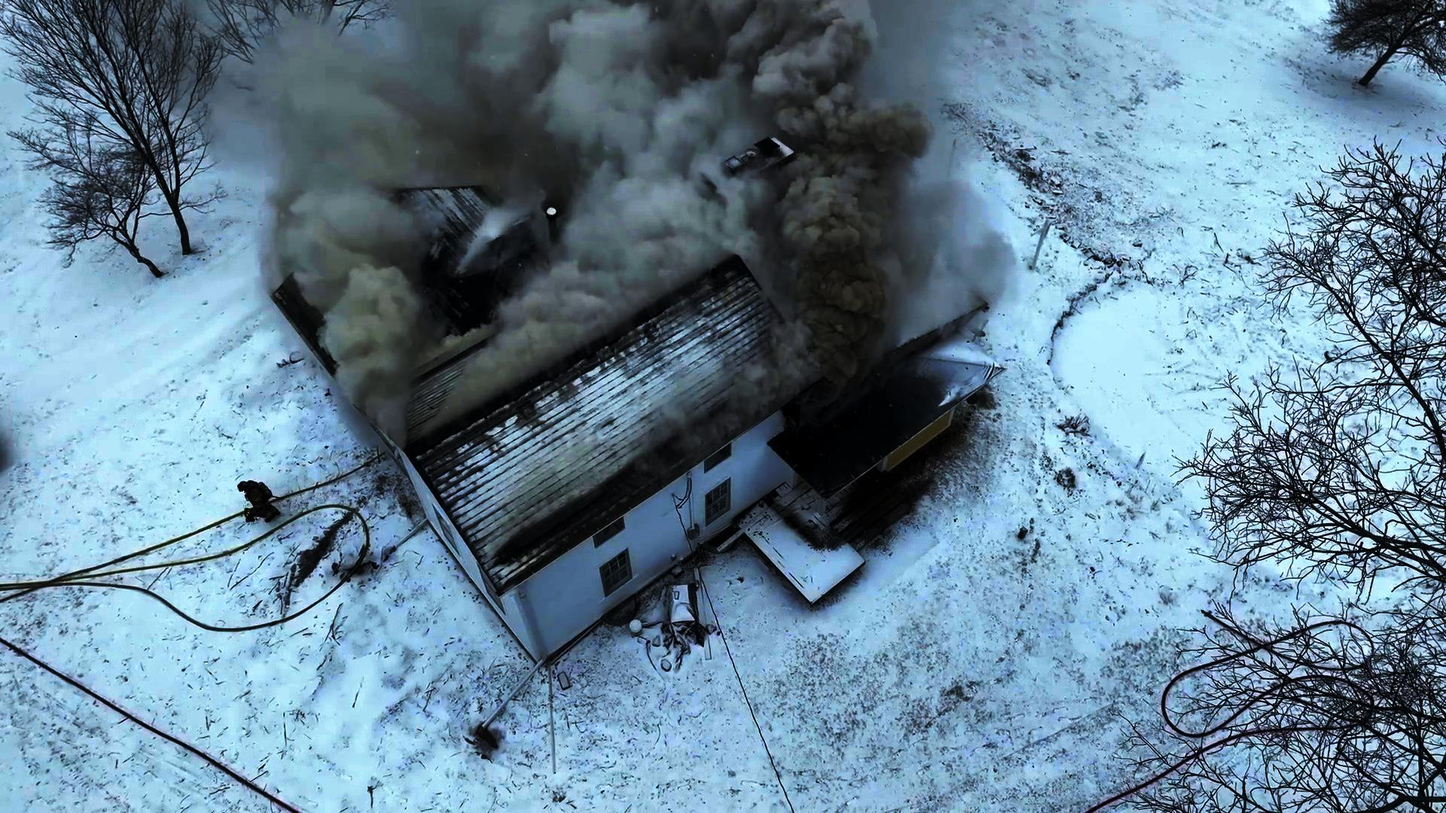smoke: (786, 74, 913, 428)
